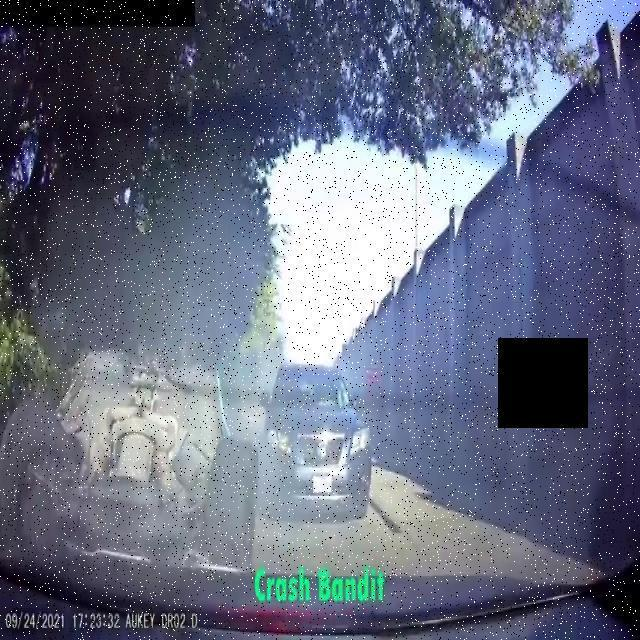multiple_accident: (13, 263, 388, 572)
